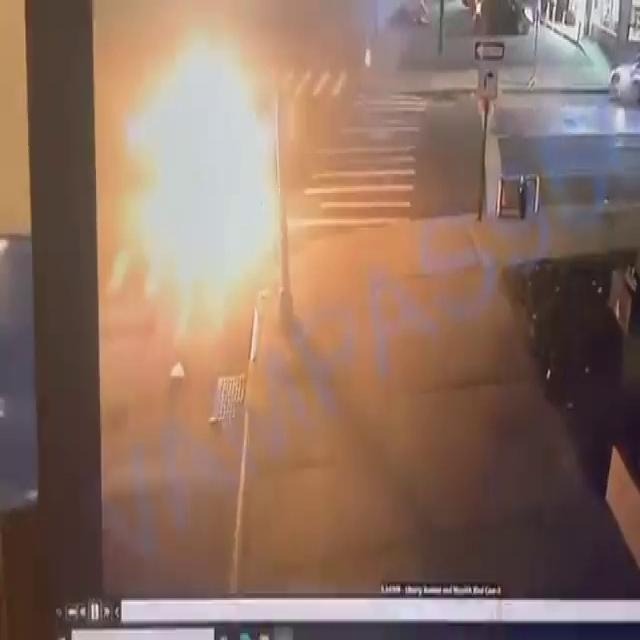Fire: (142, 45, 284, 299)
